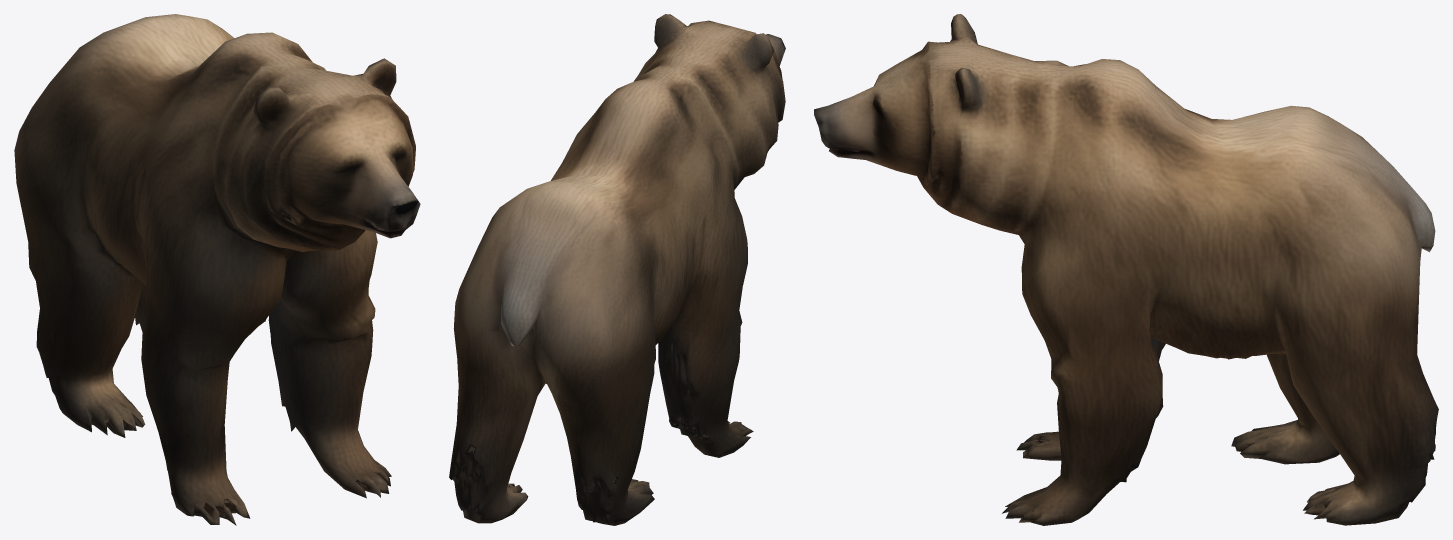
The model's file is bear.glb.
The picture shows the model from 3 angles, left to right: view 1: azimuth 30°, elevation 25°; view 2: azimuth 150°, elevation 25°; view 3: azimuth 270°, elevation 25°; orthographic projection. The views are drawn at different scales.
Parts seen in each view (by area): view 1: geometry_0; view 2: geometry_0; view 3: geometry_0.
Part boxes in pixels (<box>): geometry_0: <box>14,14,420,525</box>; geometry_0: <box>449,14,785,525</box>; geometry_0: <box>814,14,1438,525</box>.
Size of the model in its own units: 0.3807 by 0.7776 by 0.995.
Materials: 1 (1 with a texture image).
